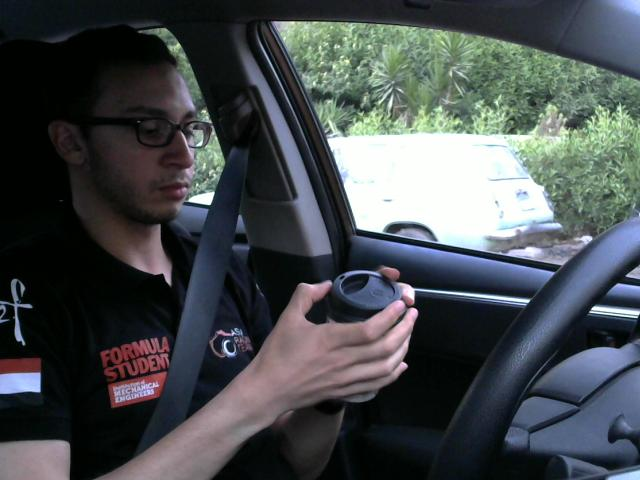Drinking: (317, 256, 409, 411)
